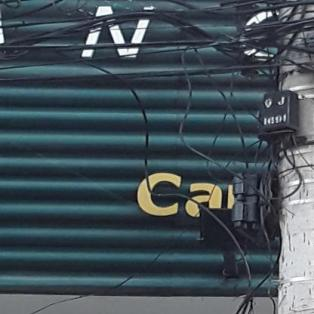Poste: (247, 2, 314, 314)
